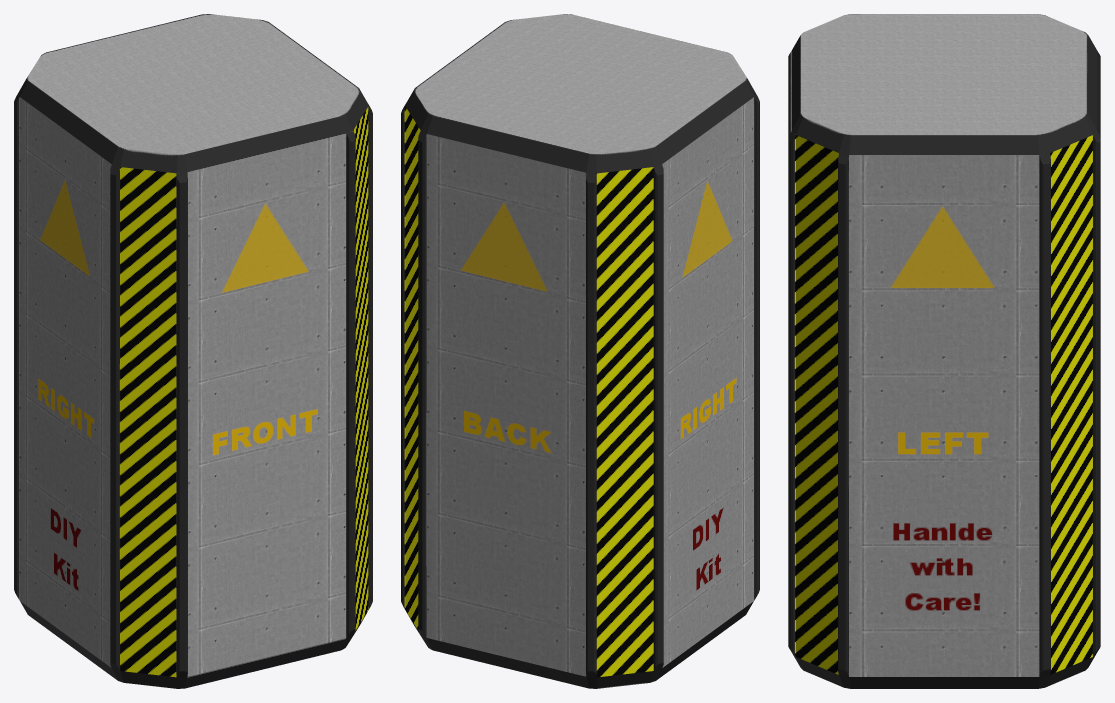
The model's file is DIYKit.fbx.
The picture shows the model from 3 angles, left to right: view 1: azimuth 30°, elevation 25°; view 2: azimuth 150°, elevation 25°; view 3: azimuth 270°, elevation 25°; orthographic projection. The views are drawn at different scales.
Parts seen in each view (by area): view 1: DIYKit; view 2: DIYKit; view 3: DIYKit.
Boxes of the visible parts, x1,y1,x2,y2 form: DIYKit: [14, 14, 372, 688]; DIYKit: [401, 14, 759, 688]; DIYKit: [788, 14, 1100, 688].
Size of what is drawn, in the model's own units: 2.05 by 4 by 2.05.
